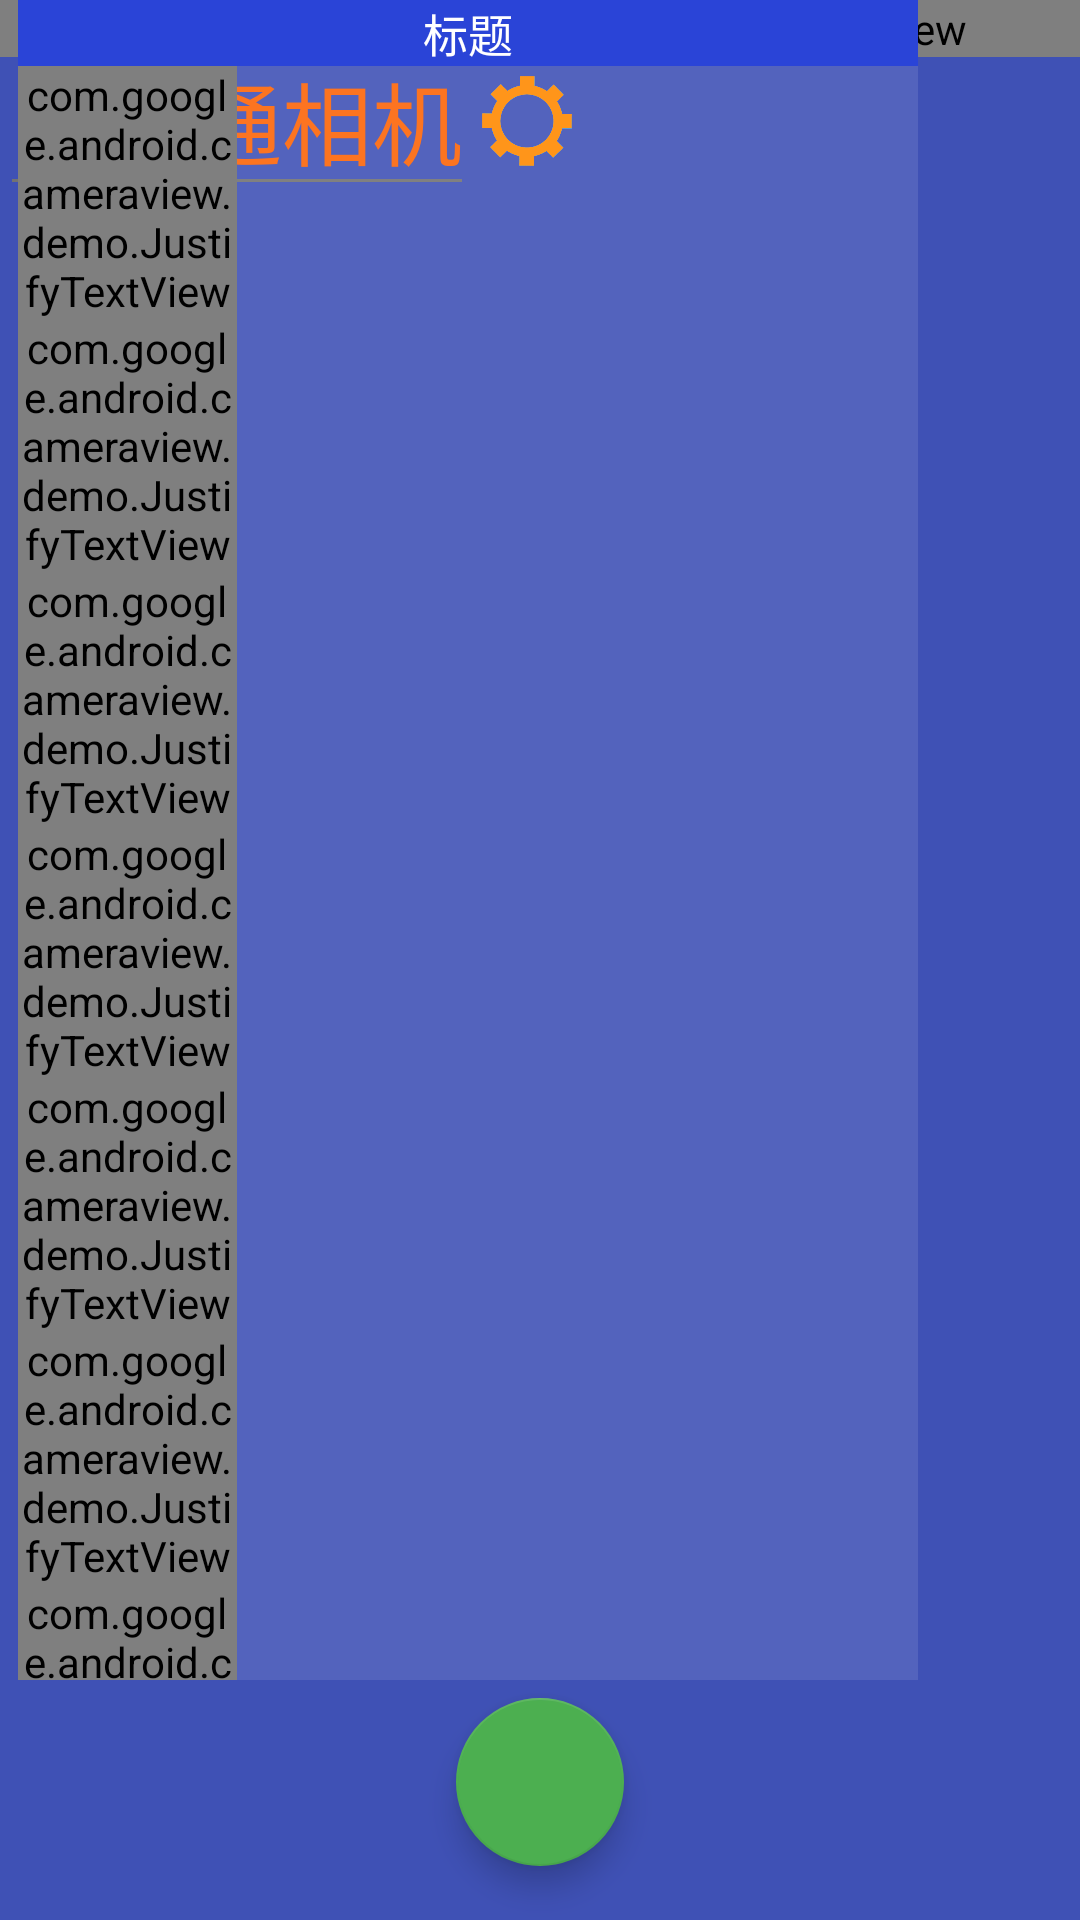

Icon bounding boxes for this 1080x1920 phone screenshot, format (x1, y1, x2, y2):
im setup: (482, 76, 572, 166)
